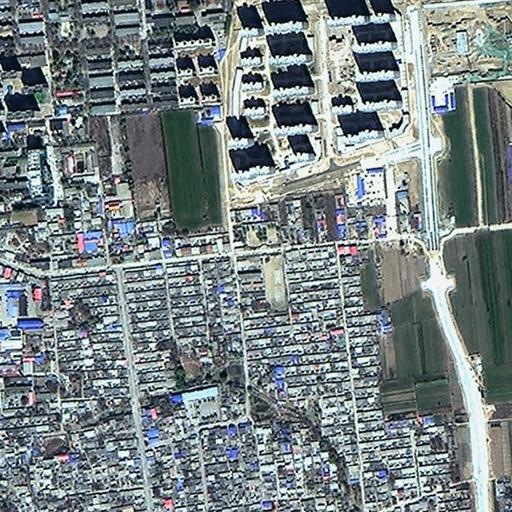school: (235, 250, 288, 317)
